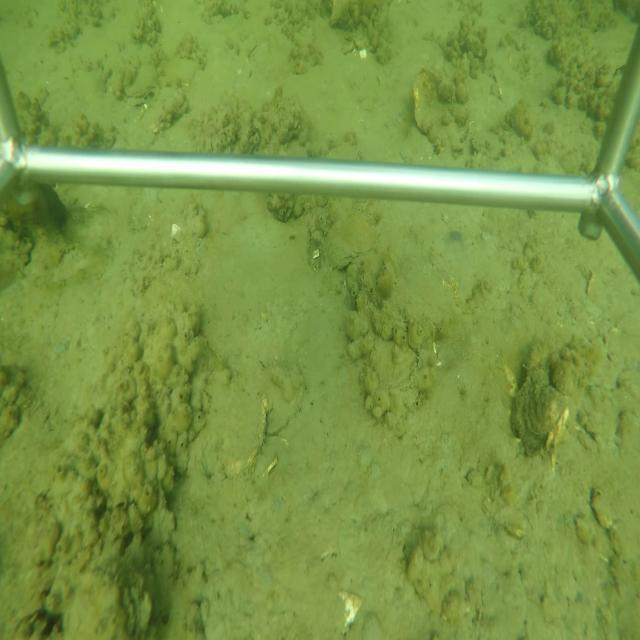Oyster-Closed: (197, 381, 270, 476), (320, 211, 378, 273)
Oyster-Indeterminate: (412, 66, 472, 150)
